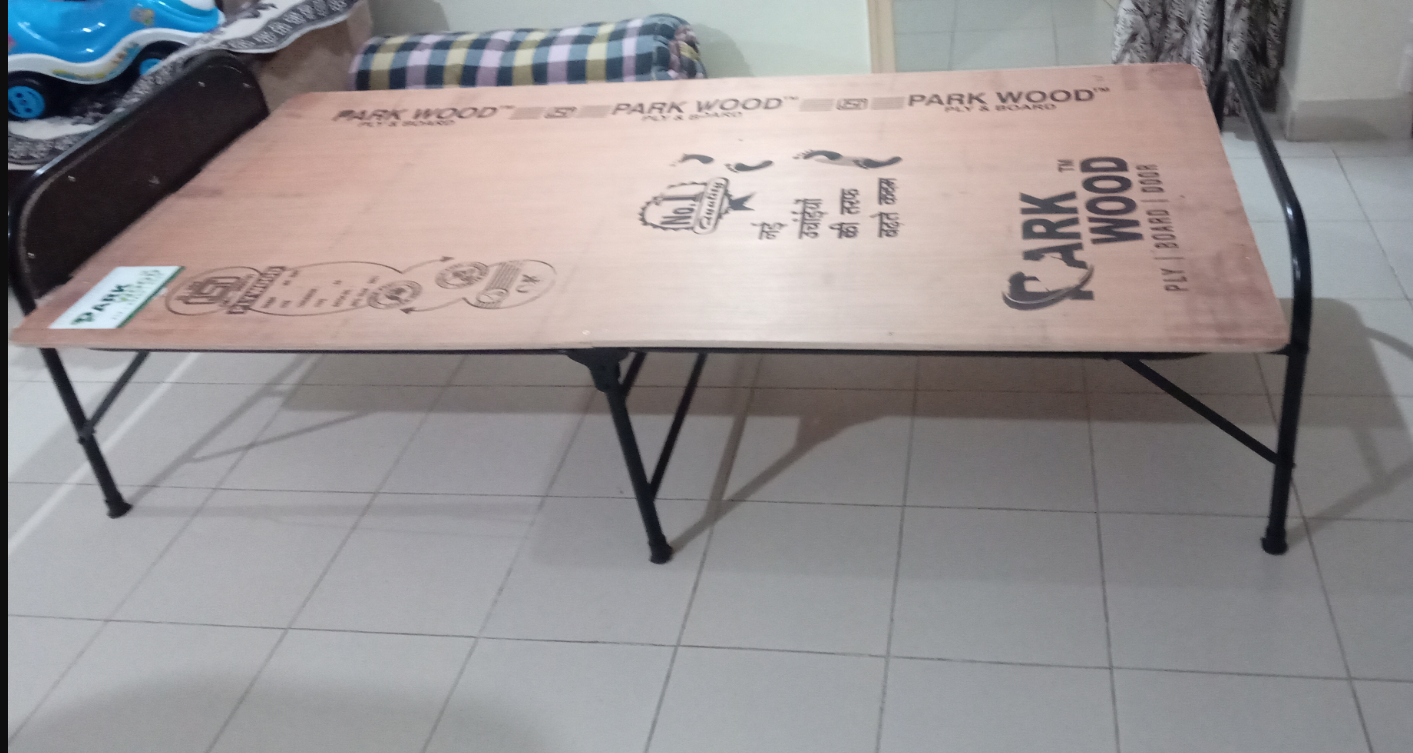cot: (0, 41, 1313, 604)
